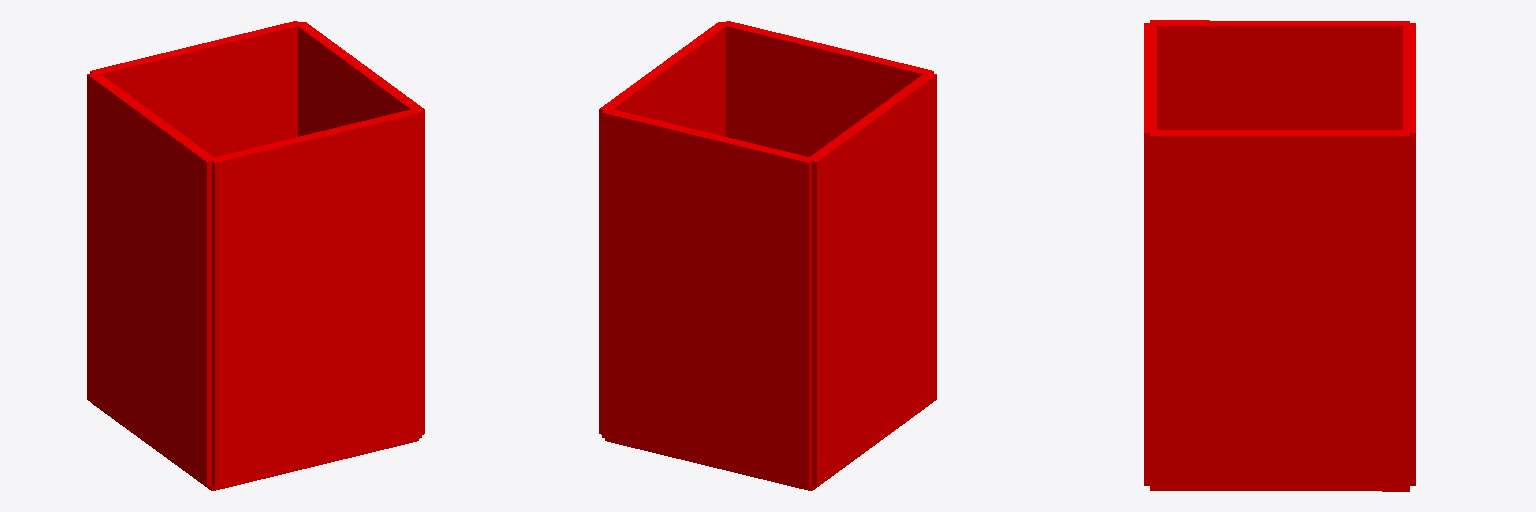
The robot description file, URDF, robot "basket_cube_red.urdf":
<?xml version="0.0" ?>
<robot name="basket_cube_red.urdf">
  <link name="base">
    <contact>
      <lateral_friction value="1.0"/>
    </contact>
    <inertial>
      <origin rpy="1.57 0 0" xyz="0 0 0"/>
       <mass value="10.0"/>
       <inertia ixx="1" ixy="0" ixz="0" iyy="1" iyz="0" izz="1"/>
    </inertial>
    <visual>
      <origin rpy="1.57 0 0" xyz="0 0 0"/>
      <geometry>
				<mesh filename="surface.obj" scale=".1 .1 .1"/>
      </geometry>
       <material name="taban">
        <color rgba="1 0 0 1"/>
      </material>
    </visual>
    <collision>
      <origin rpy="1.57 0 0" xyz="0 0 0"/>
      <geometry>
	 	   <box size="0.2 0.01 0.2"/>
      </geometry>
    </collision>
	 </link>

   <link name="left">
    <contact>
      <lateral_friction value="1.0"/>
    </contact>
    <visual>
      <origin rpy="0 0 0" xyz="0 0.1 0.15"/>
      <geometry>
        <mesh filename="surface.obj" scale=".1 .1 .15"/>
      </geometry>
       <material name="left">
        <color rgba="1 0 0 1"/>
      </material>
    </visual>
    <collision>
      <origin rpy="0 0 0" xyz="0 0.1 0.15"/>
      <geometry>
       <box size="0.2 0.01 0.3"/>
      </geometry>
    </collision>
    </link>

    <link name="right">
      <contact>
      <lateral_friction value="1.0"/>
    </contact>
    <visual>
      <origin rpy="0 0 0" xyz="0 -0.1 0.15"/>
      <geometry>
        <mesh filename="surface.obj" scale=".1 .1 .15"/>
      </geometry>
       <material name="right">
        <color rgba="1 0 0 1"/>
      </material>
    </visual>
    <collision>
      <origin rpy="0 0 0" xyz="0 -0.1 0.15"/>
      <geometry>
       <box size="0.2 0.01 0.3"/>
      </geometry>
    </collision>
    </link>

    <link name="front">
      <contact>
      <lateral_friction value="1.0"/>
    </contact>
    <visual>
      <origin rpy="0 0 1.57" xyz="0.1 0 0.15"/>
      <geometry>
        <mesh filename="surface.obj" scale=".1 .1 .15"/>
      </geometry>
       <material name="front">
        <color rgba="1 0 0 1"/>
      </material>
    </visual>
    <collision>
      <origin rpy="0 0 1.57" xyz="0.1 0 0.15"/>
      <geometry>
       <box size="0.2 0.01 0.3"/>
      </geometry>
    </collision>
    </link>

    <link name="back">
    <visual>
      <origin rpy="0 0 1.57" xyz="-0.1 0 0.15"/>
      <geometry>
        <mesh filename="surface.obj" scale=".1 .1 .15"/>
      </geometry>
       <material name="back">
        <color rgba="1 0 0 1"/>
      </material>
    </visual>
    <collision>
      <origin rpy="0 0 1.57" xyz="-0.1 0 0.15"/>
      <geometry>
       <box size="0.2 0.01 0.3"/>
      </geometry>
    </collision>
    </link>


    <joint name="base_to_left" type="fixed">
      <origin rpy="0 0 0" xyz="0 0 0"/>
      <parent link="base"/>
      <child link="left"/>
    </joint>

    <joint name="base_to_right" type="fixed">
      <origin rpy="0 0 0" xyz="0 0 0"/>
      <parent link="base"/>
      <child link="right"/>
    </joint>

    <joint name="base_to_front" type="fixed">
      <origin rpy="0 0 0" xyz="0 0 0"/>
      <parent link="base"/>
      <child link="front"/>
    </joint>

    <joint name="base_to_back" type="fixed">
      <origin rpy="0 0 0" xyz="0 0 0"/>
      <parent link="base"/>
      <child link="back"/>
    </joint>


</robot>

--- Render facts (derived) ---
3 views of the same robot in one strip: view 1: azimuth 30°, elevation 25°; view 2: azimuth 150°, elevation 25°; view 3: azimuth 270°, elevation 25° (orthographic).
Model basket_cube_red.urdf with 5 links and 4 joints (4 fixed), rooted at base, posed every joint at zero.
Links seen in each view (by area): view 1: right, back, left, front, base; view 2: left, back, right, front, base; view 3: front, back, right, left, base.
Boxes of the visible links, bbox=[...] form: right: bbox=[210, 109, 421, 487]; back: bbox=[87, 72, 213, 486]; left: bbox=[90, 21, 301, 156]; front: bbox=[295, 22, 424, 434]; base: bbox=[93, 404, 418, 490]; left: bbox=[602, 108, 811, 487]; back: bbox=[807, 72, 936, 486]; right: bbox=[724, 21, 933, 156]; front: bbox=[599, 22, 728, 434]; base: bbox=[605, 406, 927, 490]; front: bbox=[1150, 130, 1409, 487]; back: bbox=[1150, 20, 1409, 129]; right: bbox=[1144, 23, 1156, 485]; left: bbox=[1403, 23, 1415, 485]; base: bbox=[1150, 488, 1409, 491].
Size in the robot's own frame: 0.2102 by 0.21 by 0.3051 metres.
Meshes: 1 distinct files referenced, 5 mesh visuals loaded (1 OBJ).
